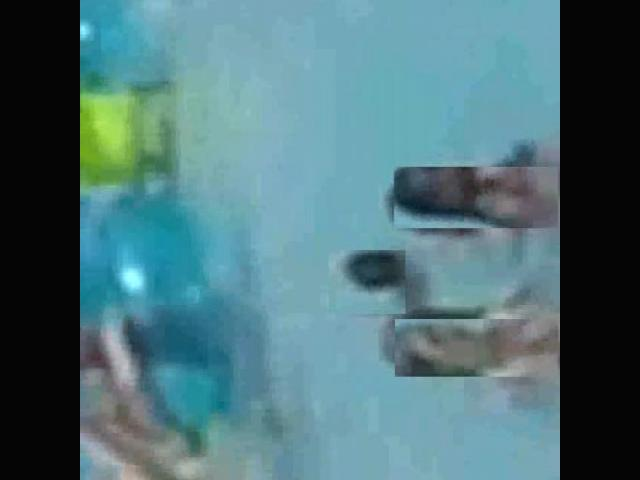drowning: (329, 248, 406, 313)
swimming: (80, 301, 189, 459), (394, 165, 560, 227), (395, 316, 559, 375)
